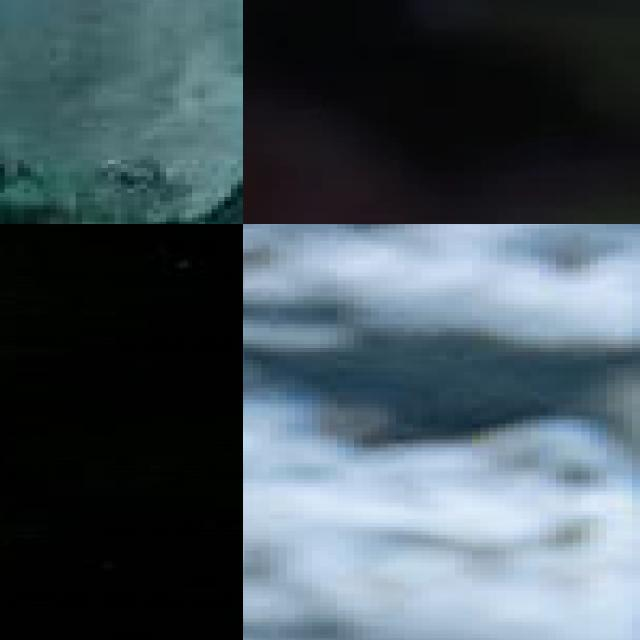fish: (0, 224, 243, 640), (0, 0, 243, 224)
